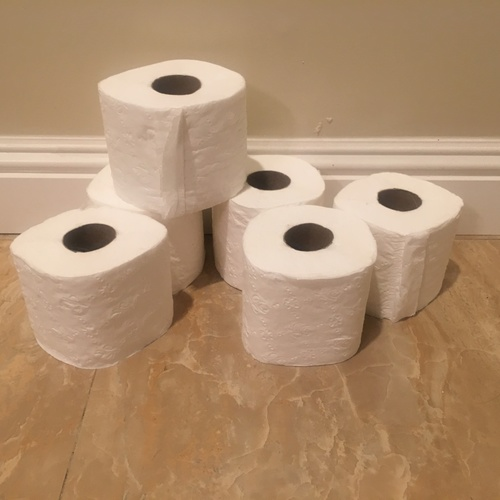roll: (7, 206, 176, 371), (95, 57, 249, 221), (237, 203, 378, 368), (330, 171, 466, 324), (85, 162, 206, 297), (210, 153, 326, 292)
